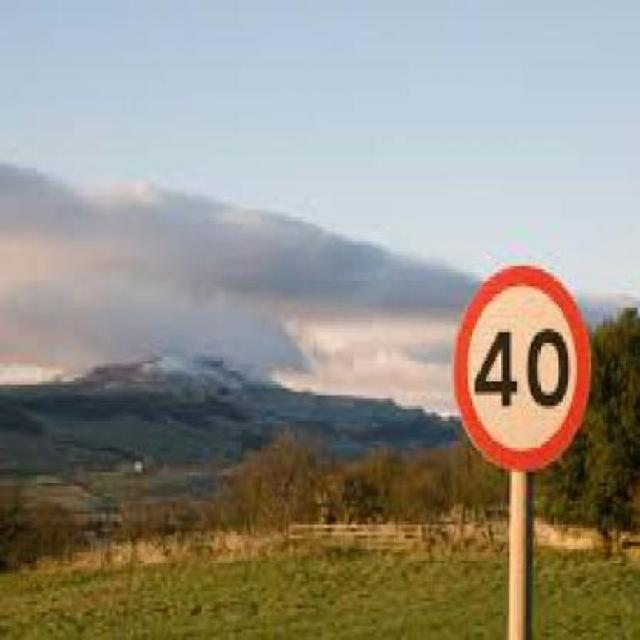forb_speed_over_40: (458, 269, 589, 469)
